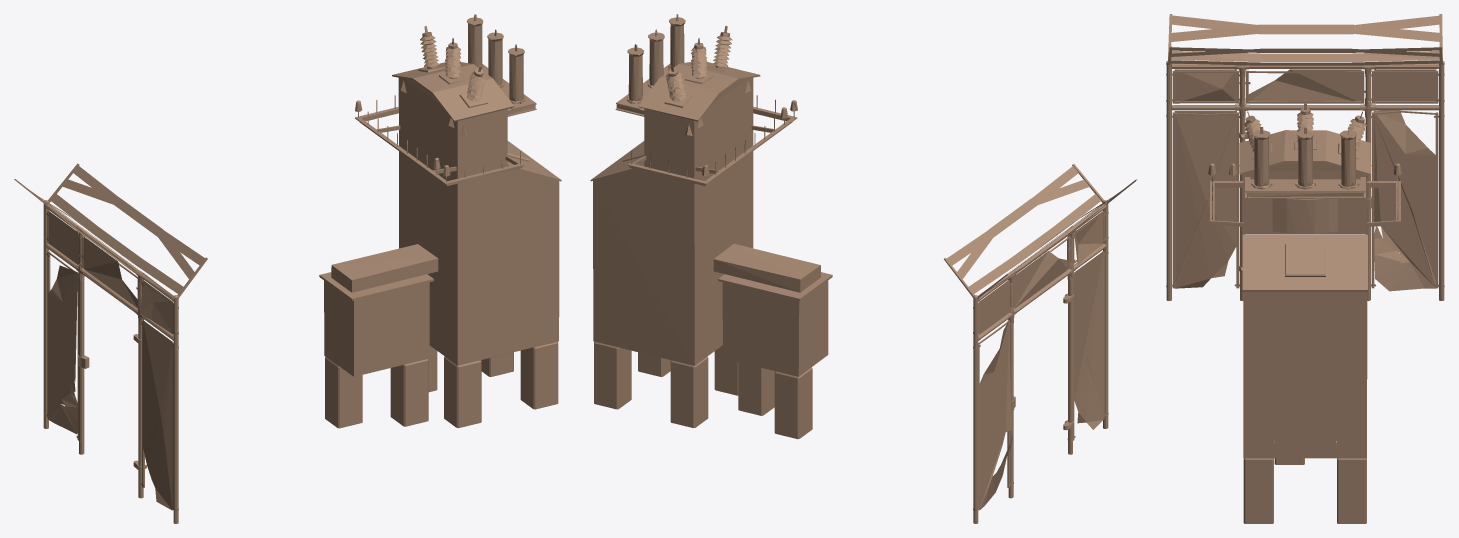
The model's file is power_sub_small_2-map.glb.
The picture shows the model from 3 angles, left to right: view 1: azimuth 30°, elevation 25°; view 2: azimuth 150°, elevation 25°; view 3: azimuth 270°, elevation 25°; orthographic projection. The views are drawn at different scales.
Visible parts, largest first — view 1: chainlink_fence_3x3_gate_LOD0; view 2: chainlink_fence_3x3_gate_LOD0; view 3: chainlink_fence_3x3_gate_LOD0.
Part boxes in pixels (<box>): chainlink_fence_3x3_gate_LOD0: <box>14,14,561,523</box>; chainlink_fence_3x3_gate_LOD0: <box>590,14,1137,523</box>; chainlink_fence_3x3_gate_LOD0: <box>1166,14,1444,523</box>.
Bounding box in the file's own units: 5.94 × 4.54 × 3.
